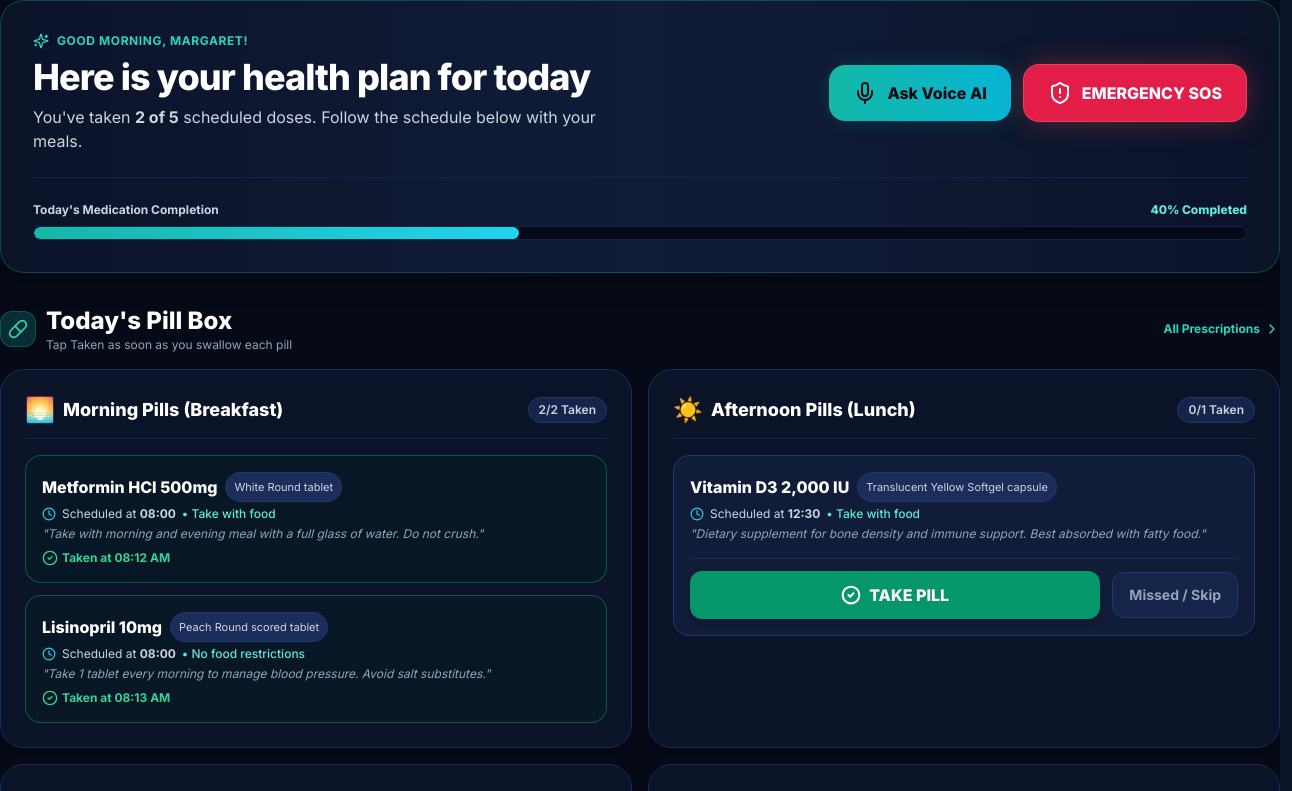
it: Senior Dashboard - PillBox Component Behavior › marks a pending medication as taken when TAKE PILL is clicked
Click the first available TAKE PILL button
Click the button "TAKE PILL": click(895, 595) left=690, top=571, right=1100, bottom=619
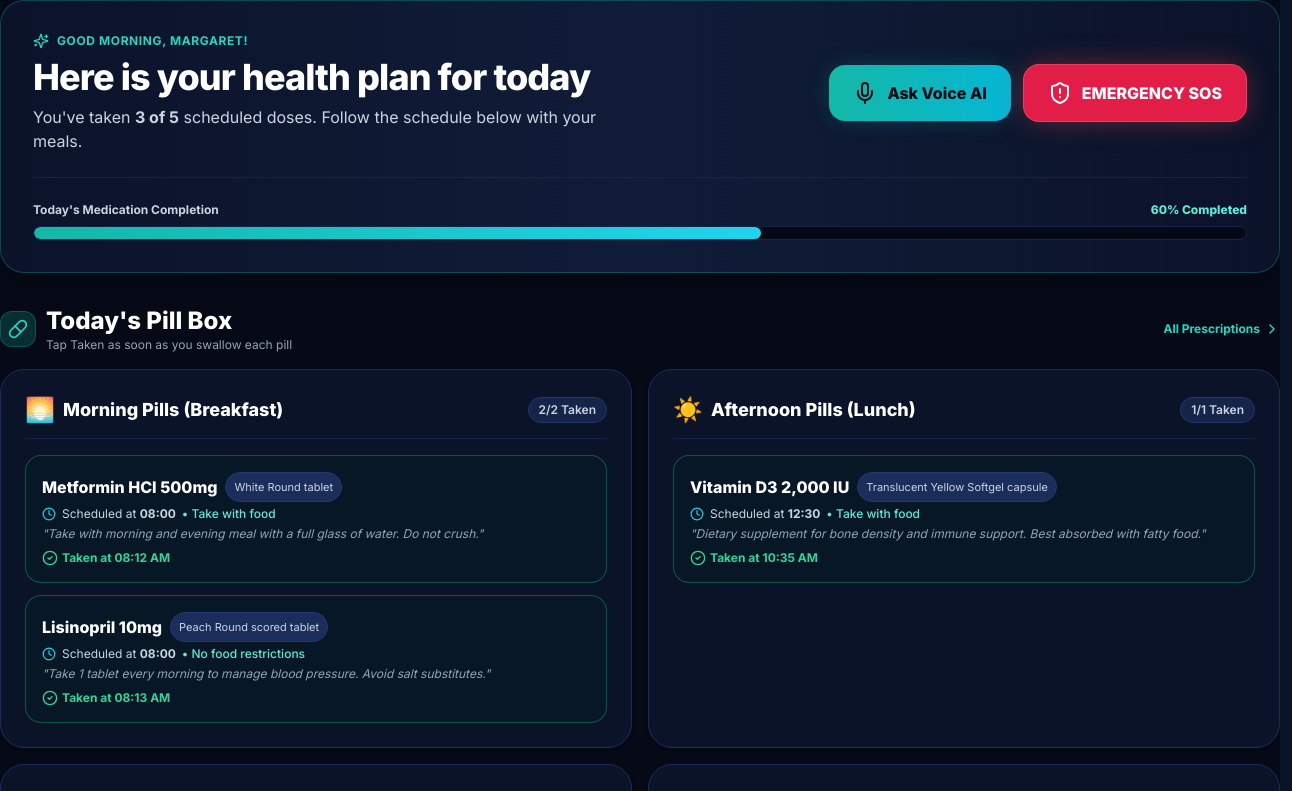
Expected: the text "3 of 5" is shown, left=135, top=107, right=179, bottom=127
Expected: the text "60% Completed" is shown, left=1151, top=202, right=1247, bottom=218
